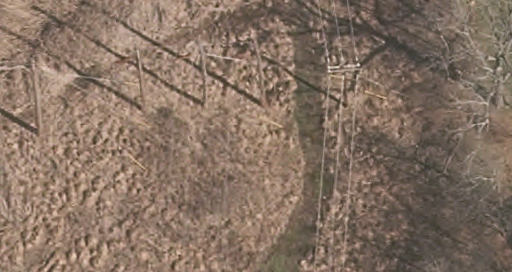DT: (175, 29, 239, 112), (1, 50, 50, 134), (232, 31, 285, 106), (109, 42, 163, 114), (323, 58, 367, 116)
